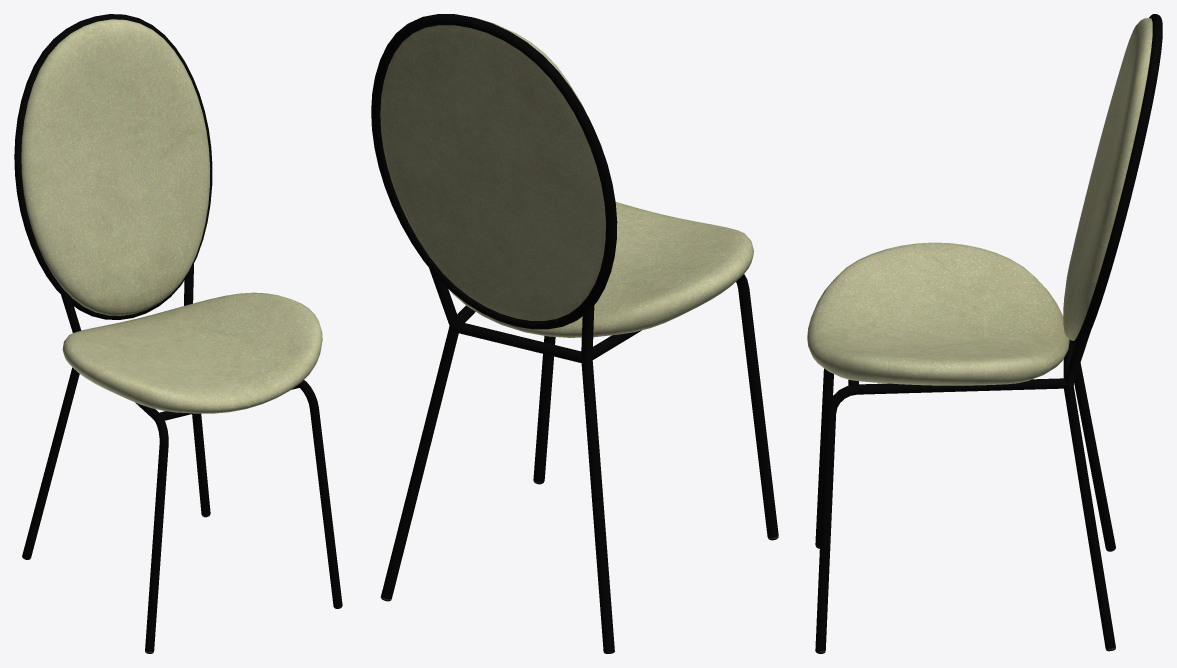
Rendered from chair_36_02.001.fbx.
The picture shows the model from 3 angles, left to right: view 1: azimuth 30°, elevation 25°; view 2: azimuth 150°, elevation 25°; view 3: azimuth 270°, elevation 25°; orthographic projection. The views are drawn at different scales.
Visible parts, largest first — view 1: chair_36_02.001; view 2: chair_36_02.001; view 3: chair_36_02.001.
Part boxes in pixels (bbox=[...]): chair_36_02.001: bbox=[14, 14, 342, 653]; chair_36_02.001: bbox=[371, 14, 778, 653]; chair_36_02.001: bbox=[807, 14, 1162, 653].
Bounding box in the file's own units: 46.48 × 97.18 × 54.38.
Materials: 1 (1 with a texture image).
